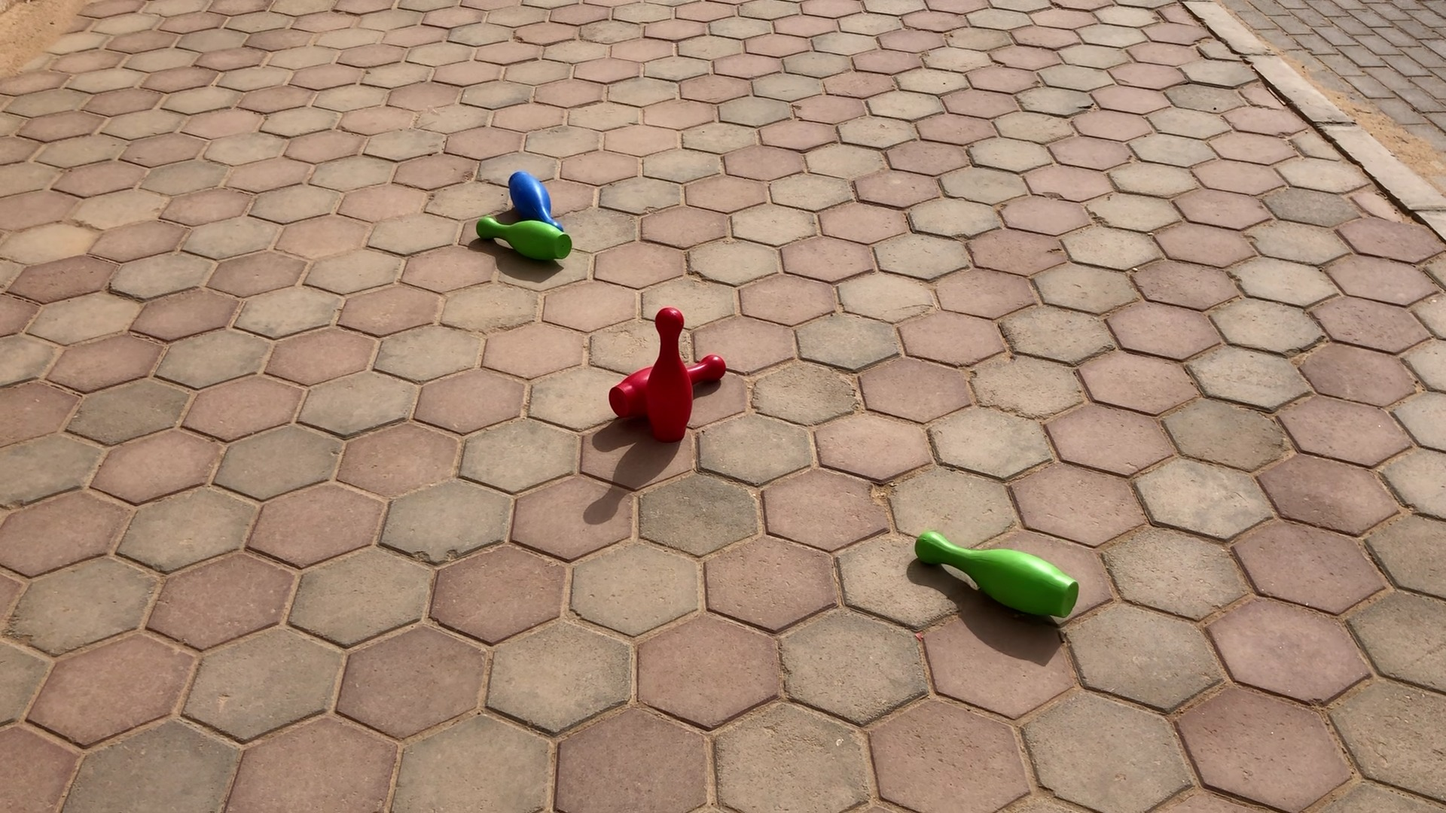bowling-pin: (914, 534, 1078, 619), (640, 308, 695, 437), (480, 215, 572, 260), (508, 171, 560, 233)
